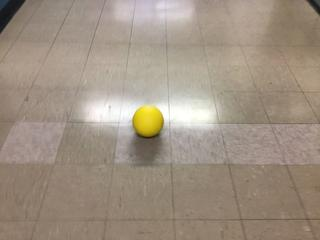power_cell: (132, 104, 166, 141)
